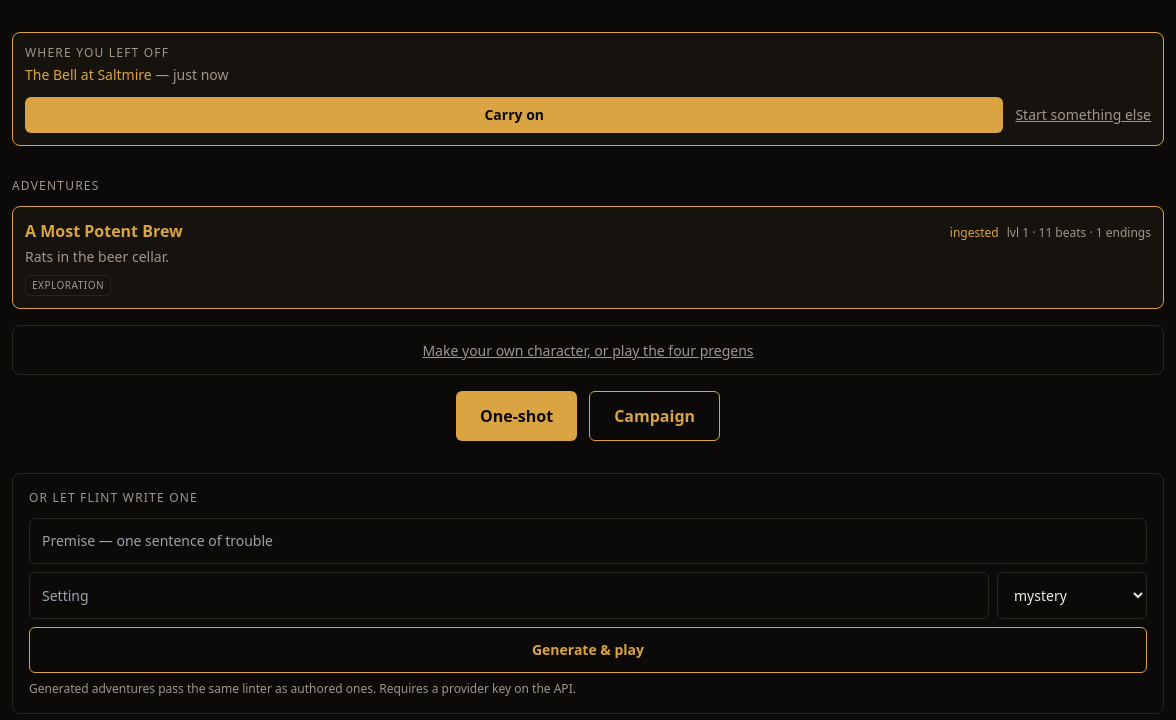
Test: picking a run back up › forgets the run when the player starts something else
The image size is (1176, 720).
Step 1. Click the button "Start something else" → click(1083, 115), box [1015,105,1151,125]
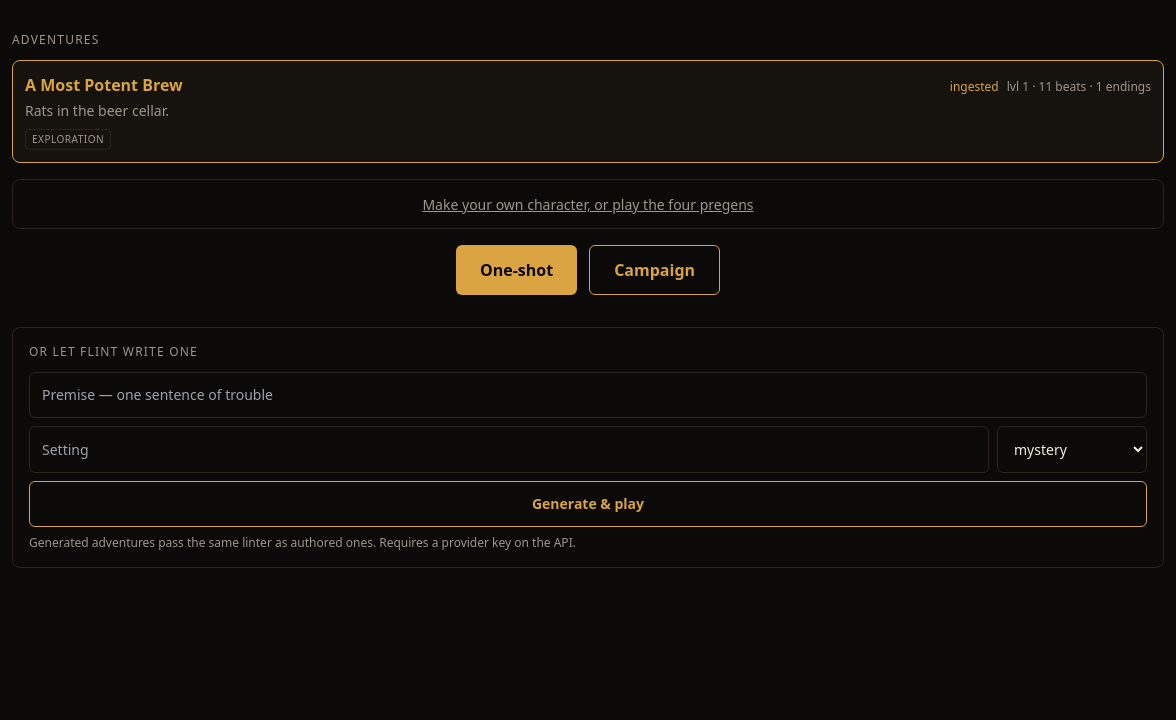
Check: the heading "Where you left off" is gone
